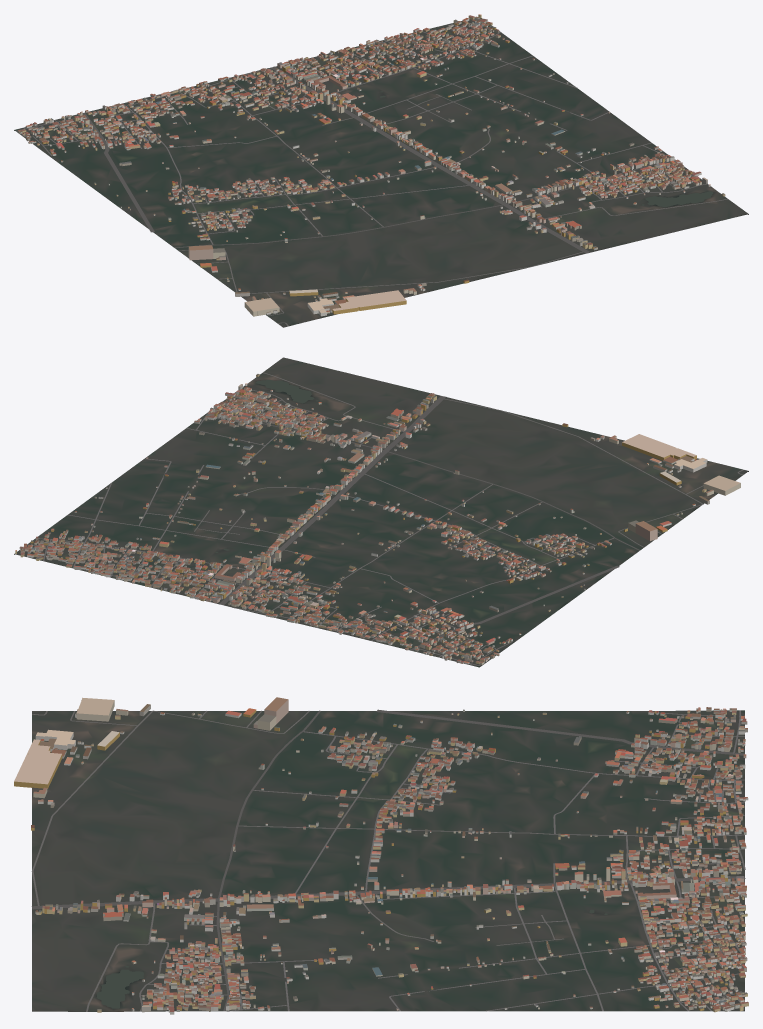
The picture shows the model from 3 angles, top to bottom: view 1: azimuth 30°, elevation 25°; view 2: azimuth 150°, elevation 25°; view 3: azimuth 270°, elevation 25°; orthographic projection. The views are drawn at different scales.
Visible parts, largest first — view 1: ground, buildings, roads, water; view 2: ground, buildings, roads, water; view 3: ground, buildings, roads, water.
Boxes of the visible parts, <box> form: ground: <box>14,18,748,327</box>; buildings: <box>17,14,725,316</box>; roads: <box>16,23,727,326</box>; water: <box>380,91,713,207</box>; ground: <box>14,357,748,667</box>; buildings: <box>15,374,740,664</box>; roads: <box>27,372,743,666</box>; water: <box>215,379,318,552</box>; ground: <box>32,710,744,1011</box>; buildings: <box>14,697,748,1014</box>; roads: <box>31,709,745,1011</box>; water: <box>96,909,607,1008</box>.
Size of the model in its own units: 1447 by 31.8 by 1445.
